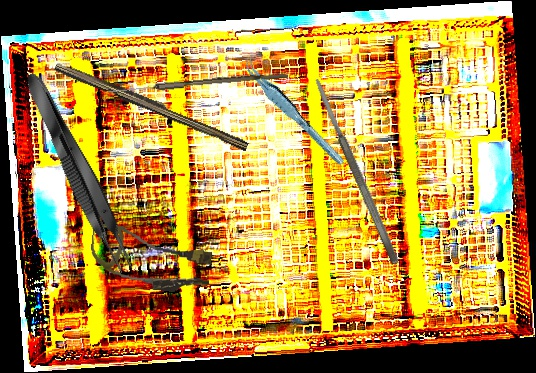Cannula: (86, 222, 215, 297)
Scalpel Handle: (52, 58, 252, 152)
Spatula Surgical: (311, 74, 401, 267)
Surgical Spoon: (108, 69, 288, 97)
Tissue Forceps: (17, 67, 141, 277), (239, 46, 346, 177)
